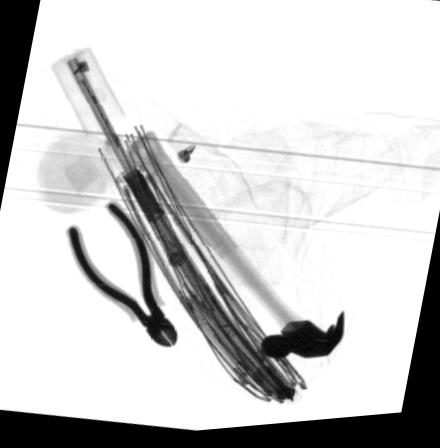Hammer: (127, 132, 343, 363)
Pliers: (63, 199, 177, 350)
